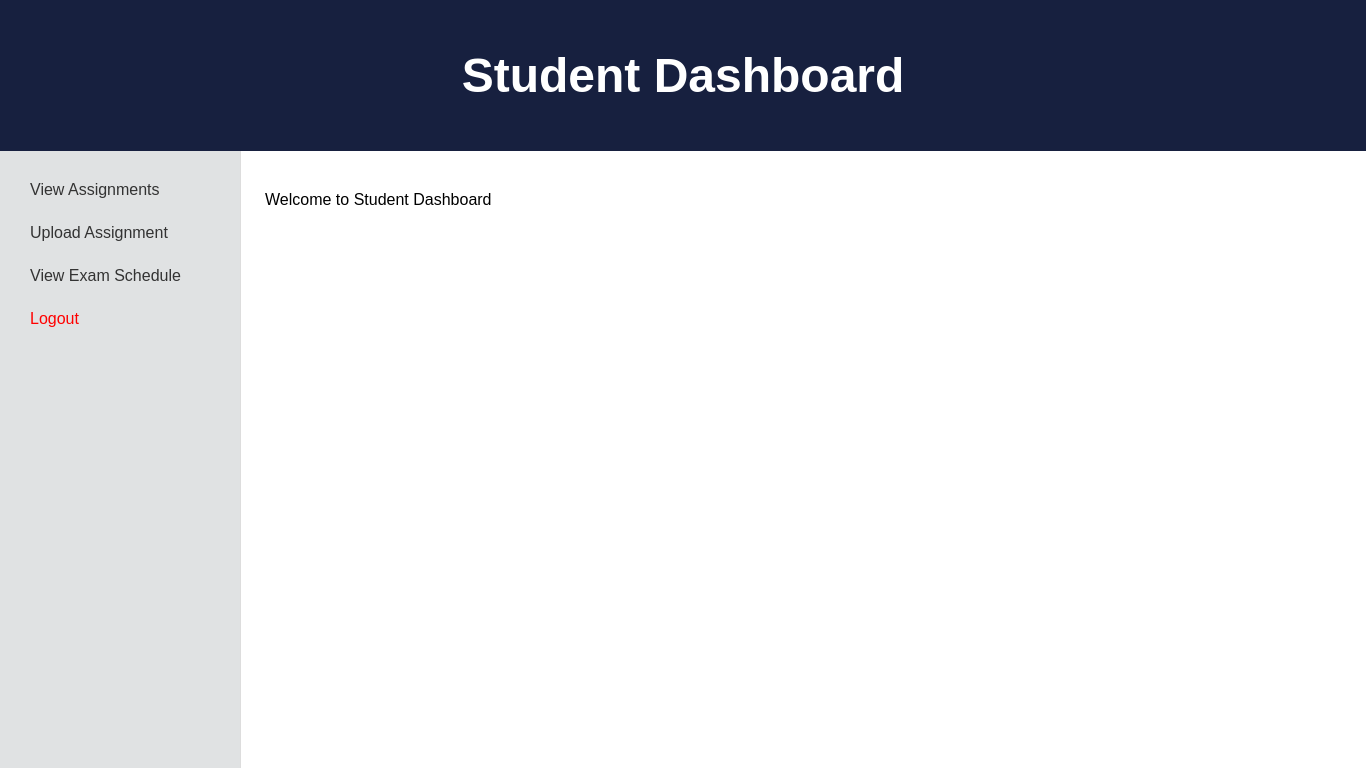
Scenario: StudentDashboard › renders exam schedule tab content when "View Exam Schedule" is clicked
Click the list item "View Exam Schedule" at (105, 276), box x1=30 y1=267 x2=181 y2=284
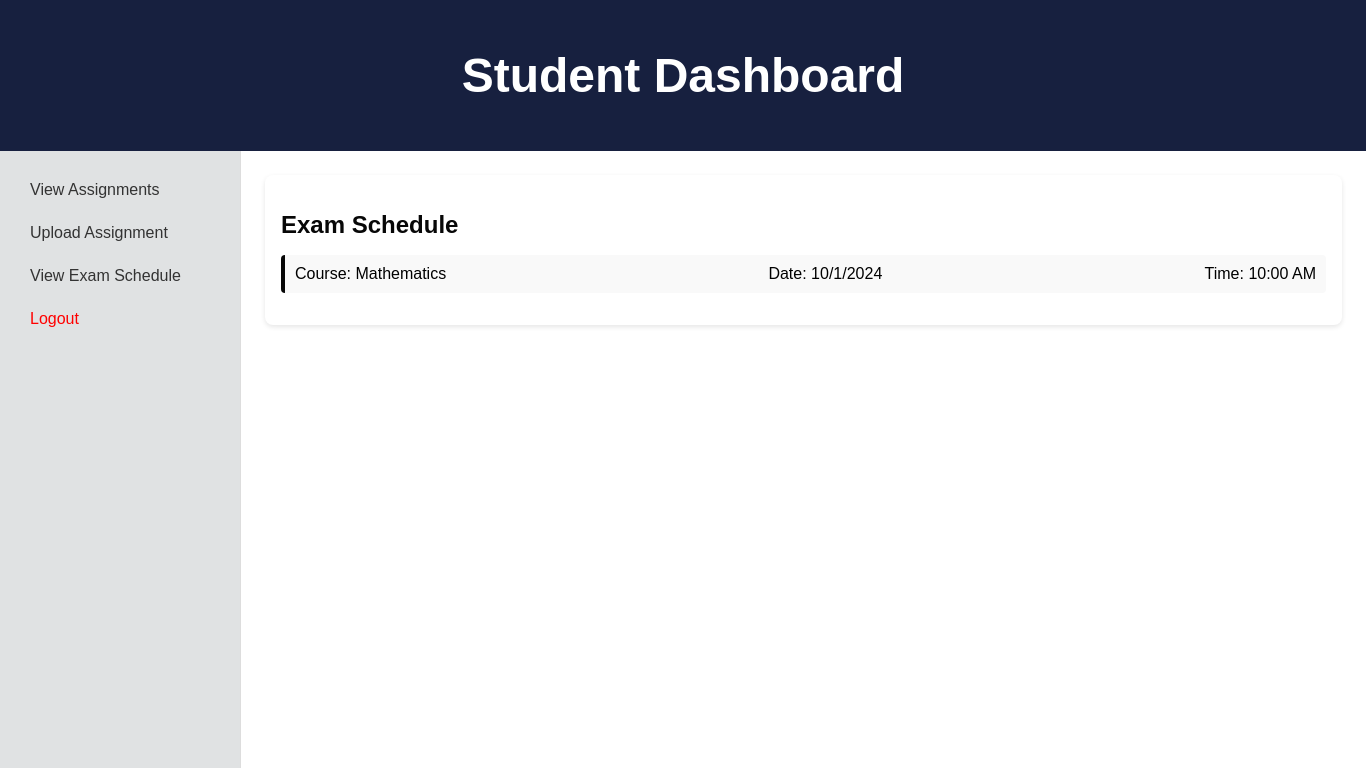
Expected: the heading "Exam Schedule" is shown, x1=281 y1=211 x2=458 y2=238
Expected: the text "Course: Mathematics" is shown, x1=295 y1=265 x2=446 y2=283
